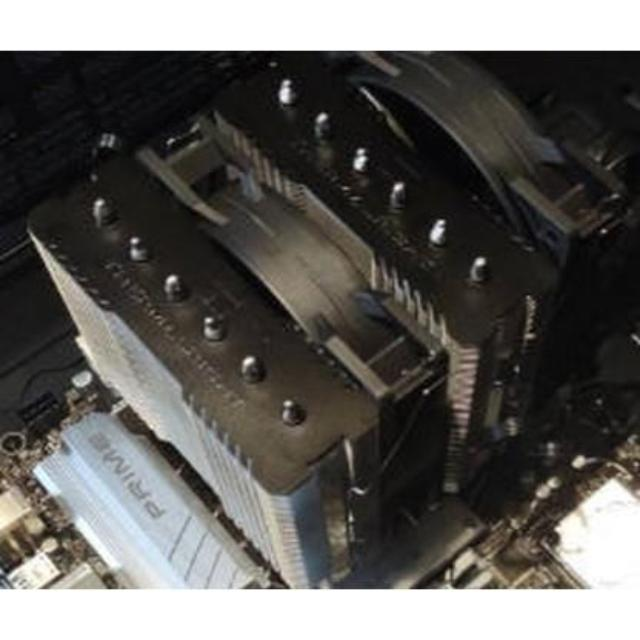CPU_Fan: (22, 30, 613, 570)
